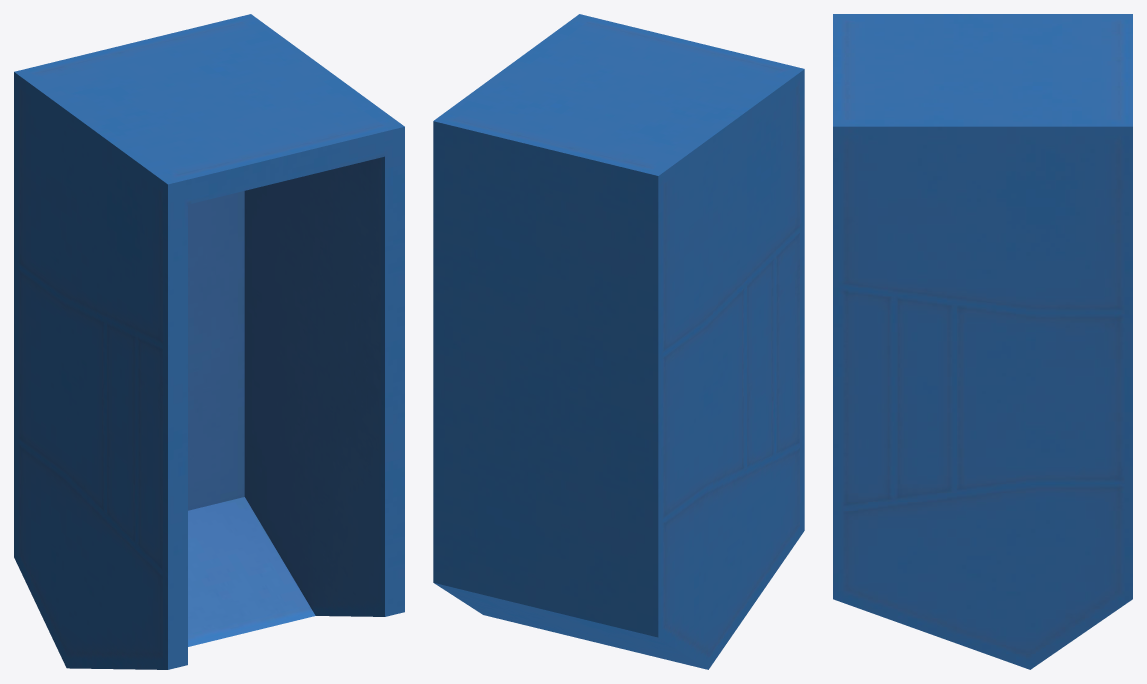
3 renders of one model, left to right at view 1: azimuth 30°, elevation 25°; view 2: azimuth 150°, elevation 25°; view 3: azimuth 270°, elevation 25°, orthographic. The views are drawn at different scales.
Visible parts, largest first — view 1: Box002_Elements5.001; view 2: Box002_Elements5.001; view 3: Box002_Elements5.001.
Part boxes in pixels (left/top/right/bottom): Box002_Elements5.001: left=14, top=14, right=404, bottom=669; Box002_Elements5.001: left=433, top=14, right=804, bottom=669; Box002_Elements5.001: left=833, top=14, right=1132, bottom=669.
Bounding box in the file's own units: 8 × 18 × 9.
Materials: 1 (1 with a texture image).
